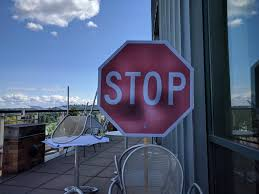stop sign: (97, 40, 195, 137)
